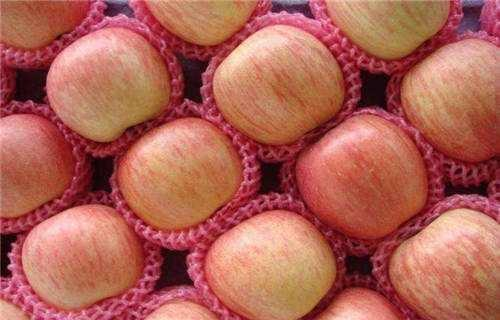apple: (290, 115, 430, 242), (211, 22, 345, 145), (204, 206, 339, 317), (113, 118, 240, 233), (48, 25, 172, 136), (16, 203, 144, 310), (382, 208, 500, 317), (398, 41, 498, 158), (1, 111, 72, 225)
